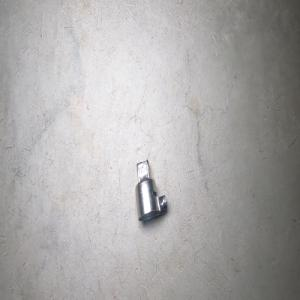MetalPart: (135, 158, 167, 222)
